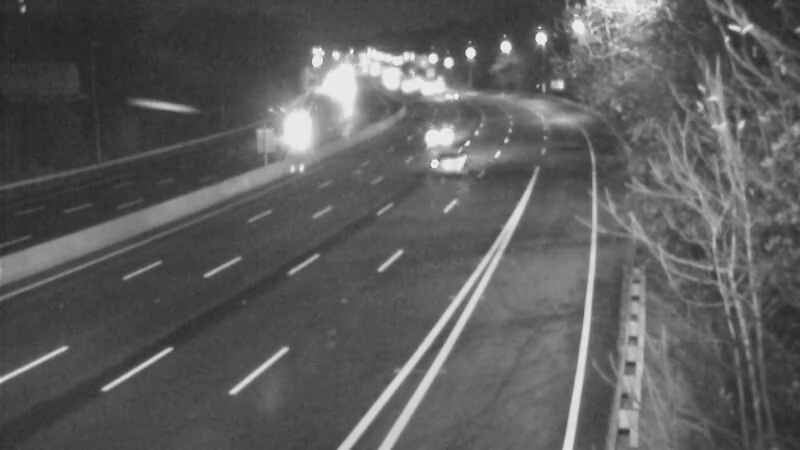vehicle: (407, 115, 487, 195), (424, 77, 474, 127), (401, 114, 451, 164), (286, 97, 336, 147)
